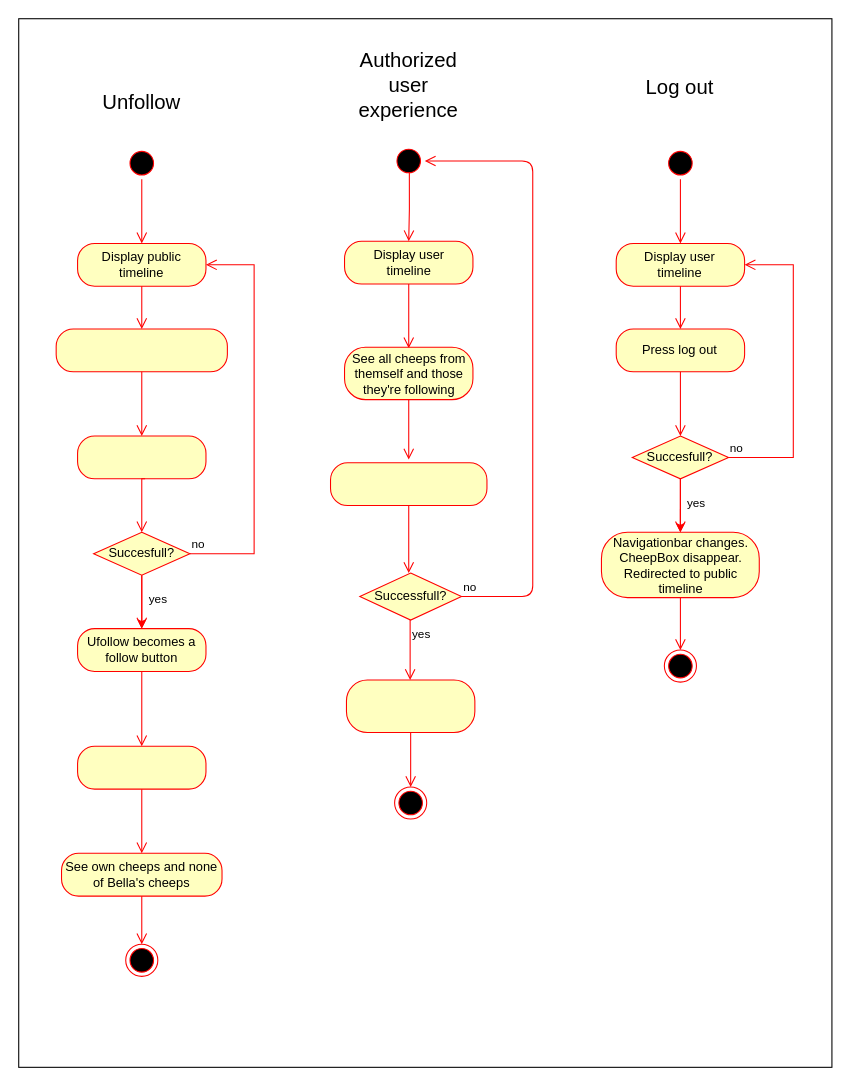
This 851x1086 diagram has some shape labels left out. Here are the shapes that lost their labels. From the top down, the box of each, then its label:
(55, 328, 227, 372): See an ufollow button next to a username: Bella
(77, 435, 206, 479): Unfollow Bella
(329, 462, 487, 506): Goes to profile page
(345, 679, 475, 732): See whose following them and who they're following
(77, 745, 206, 789): Go to UserTimeline
